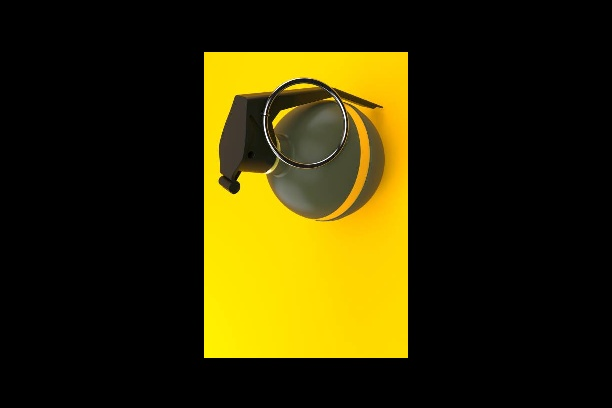e1: (214, 70, 385, 222)
